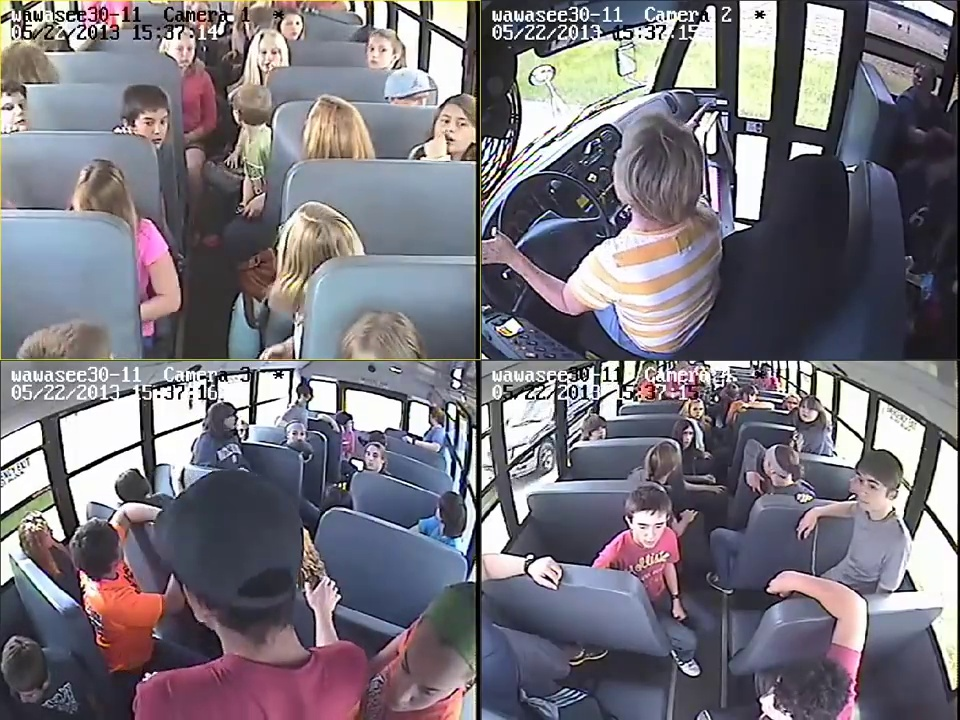face: (389, 643, 442, 709), (434, 105, 476, 149), (854, 471, 884, 512), (255, 39, 288, 72), (137, 110, 165, 146), (633, 513, 662, 545), (7, 94, 30, 130), (368, 36, 394, 66), (172, 41, 194, 63), (365, 445, 382, 468), (285, 17, 304, 36), (679, 425, 694, 449), (798, 401, 815, 420), (740, 387, 757, 404), (590, 423, 606, 438), (690, 401, 703, 418)
